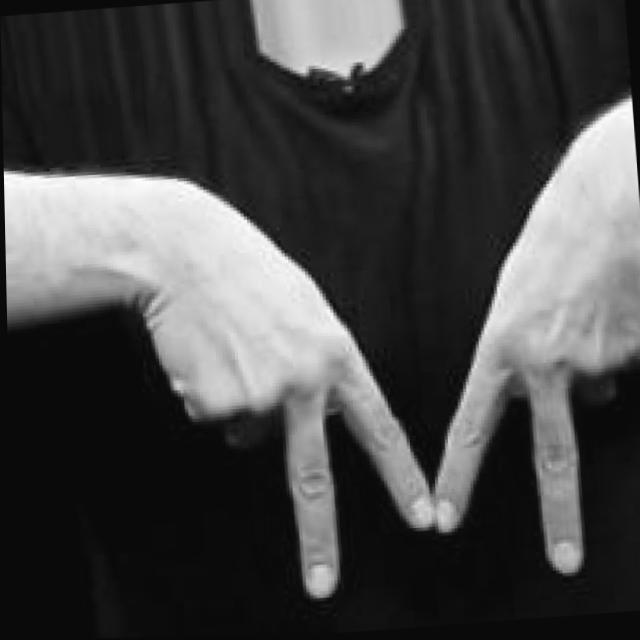M: (135, 141, 640, 623)
